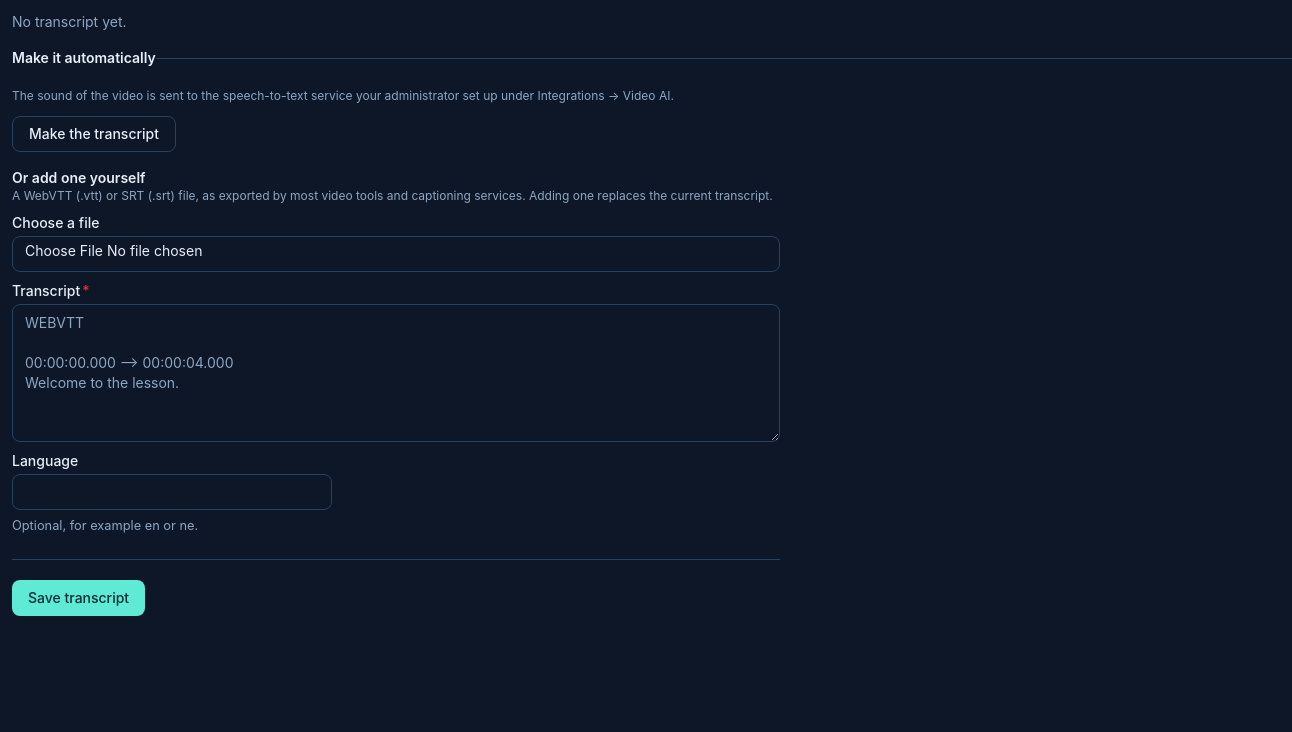
Test case: TranscriptManager › shows the server message when the transcript cannot be read
Click the text box labelled "Transcript" at (396, 373), box [12, 304, 780, 442]
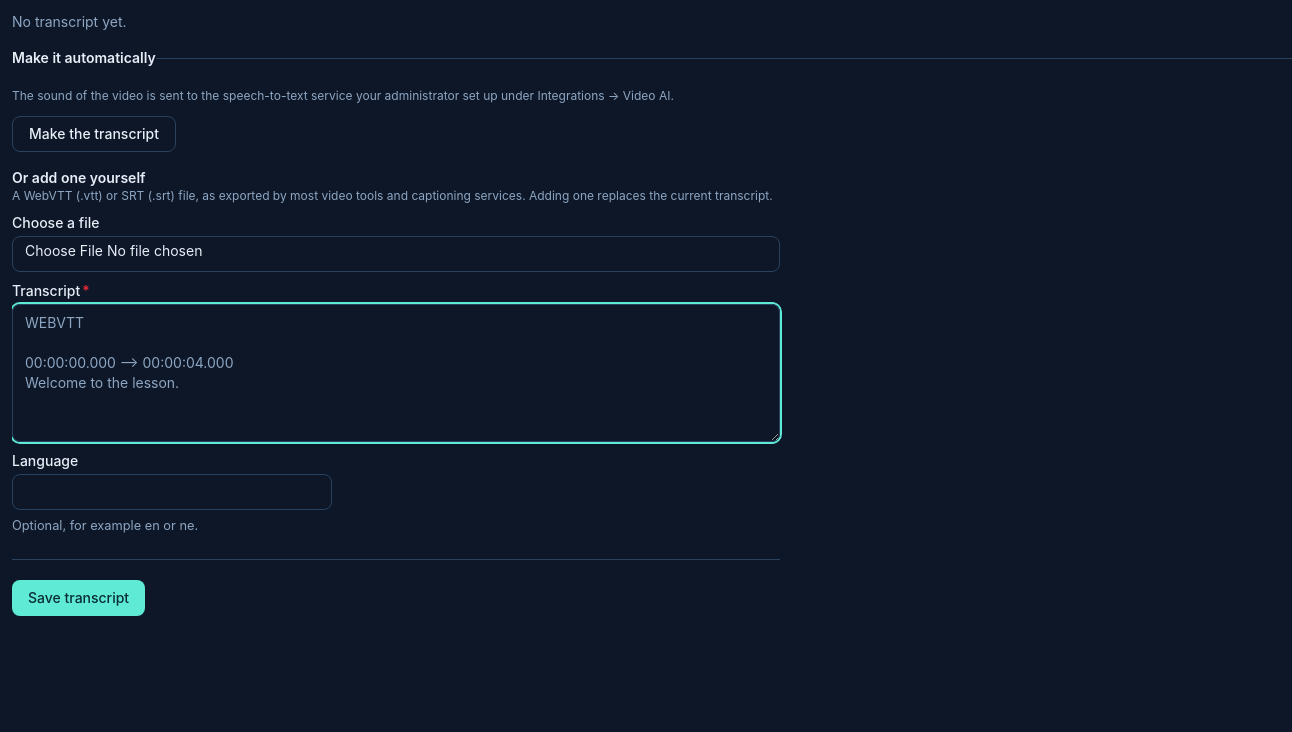
Type keys "words"
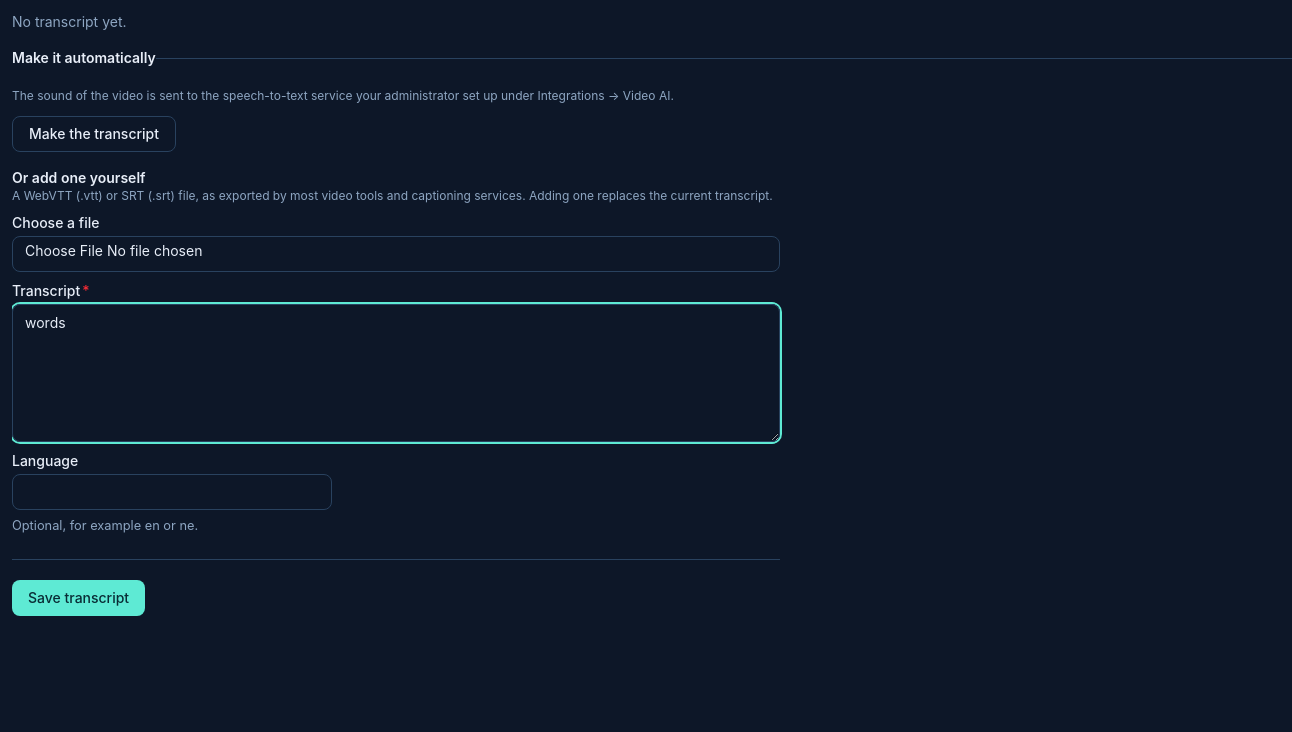
Click the button "Save transcript" at (79, 598), box [12, 580, 145, 616]
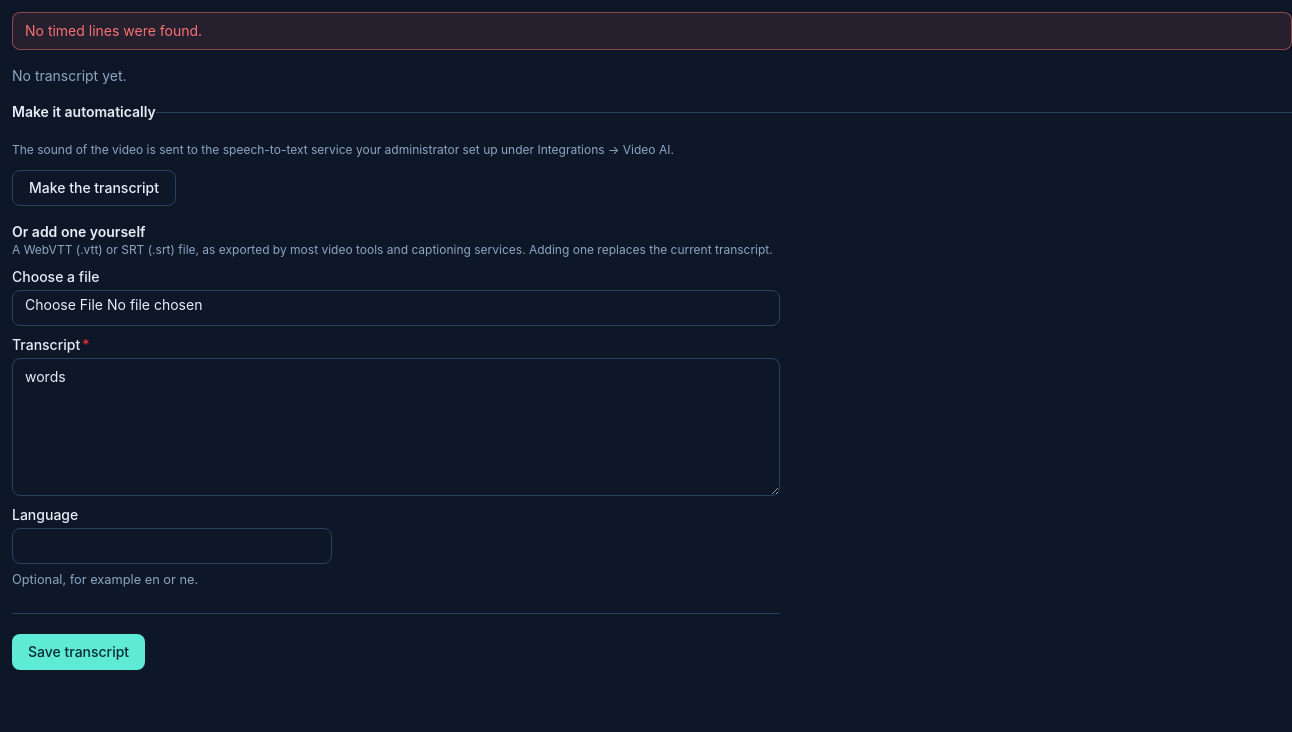
Result: the text "No timed lines were found." is shown at [12, 12, 1291, 50]
